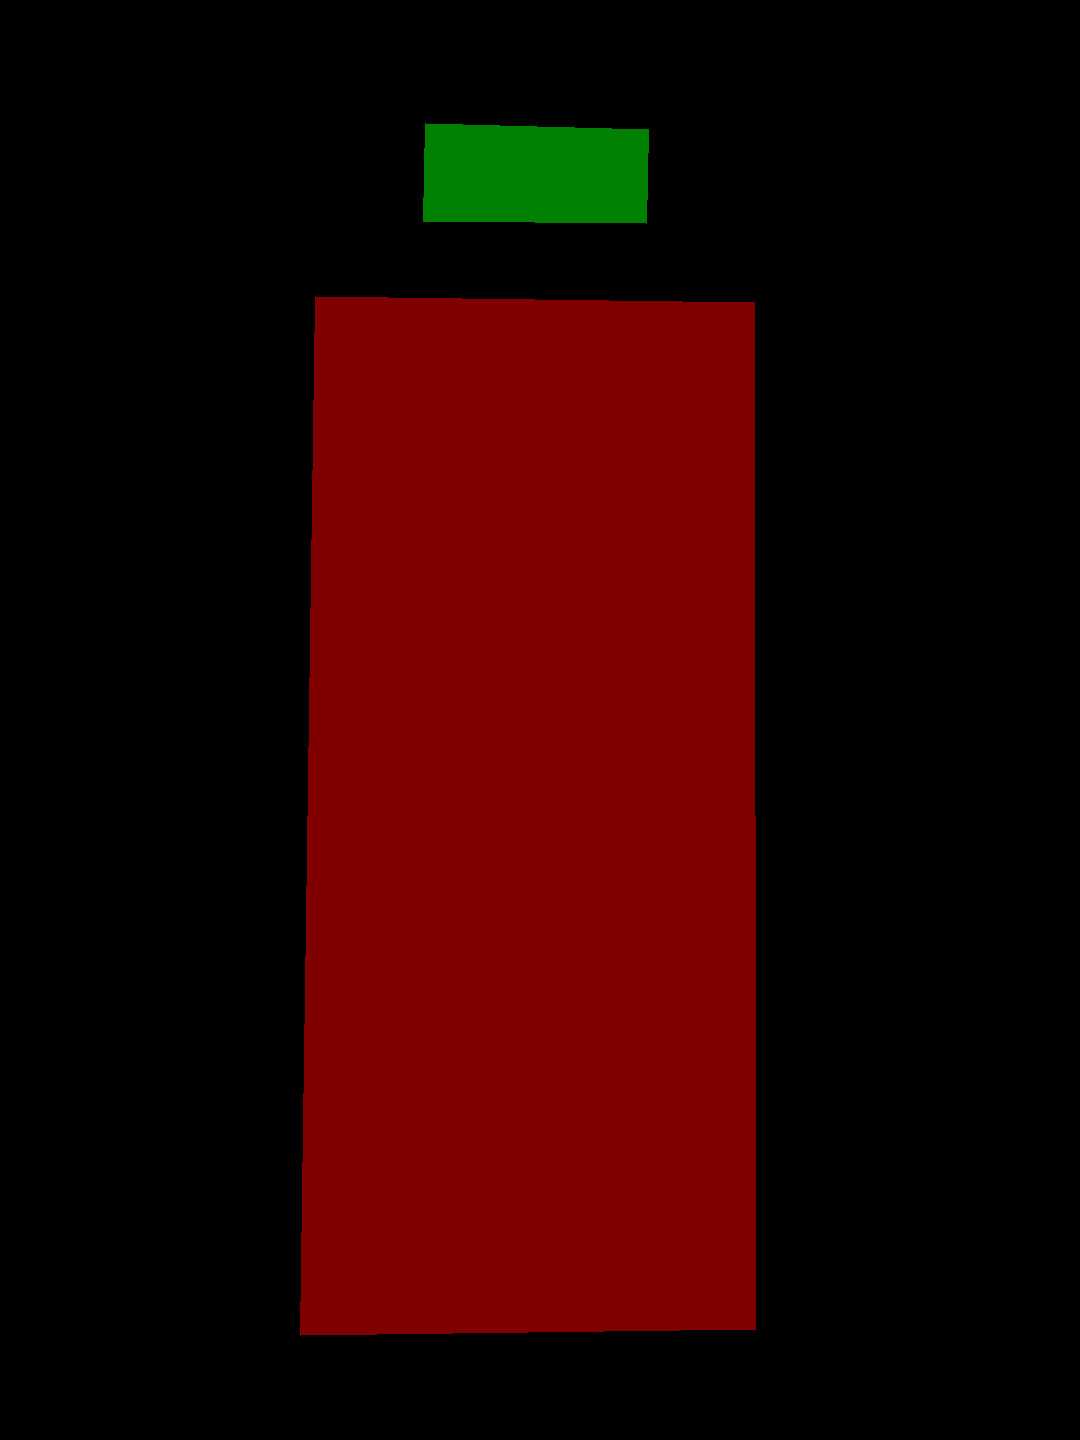door: (299, 296, 756, 1335)
sign: (423, 122, 648, 223)
